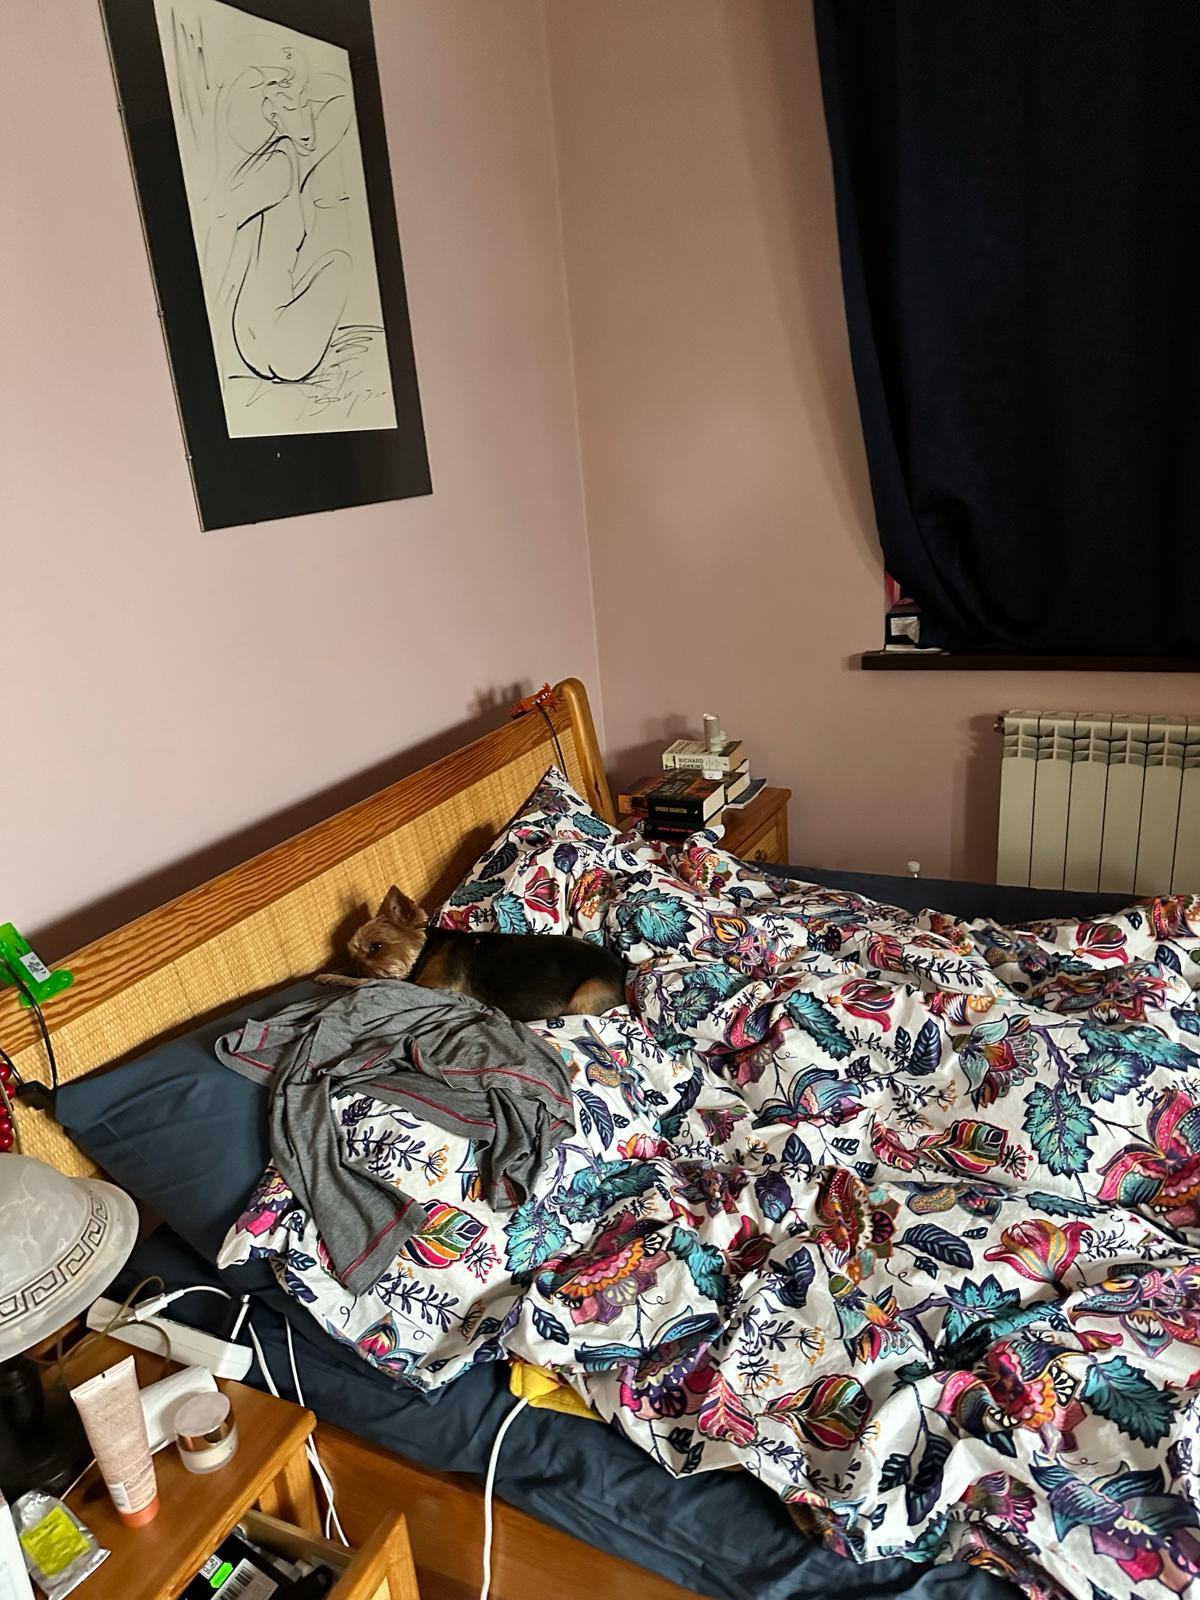stasiu: (277, 818, 605, 1146)
